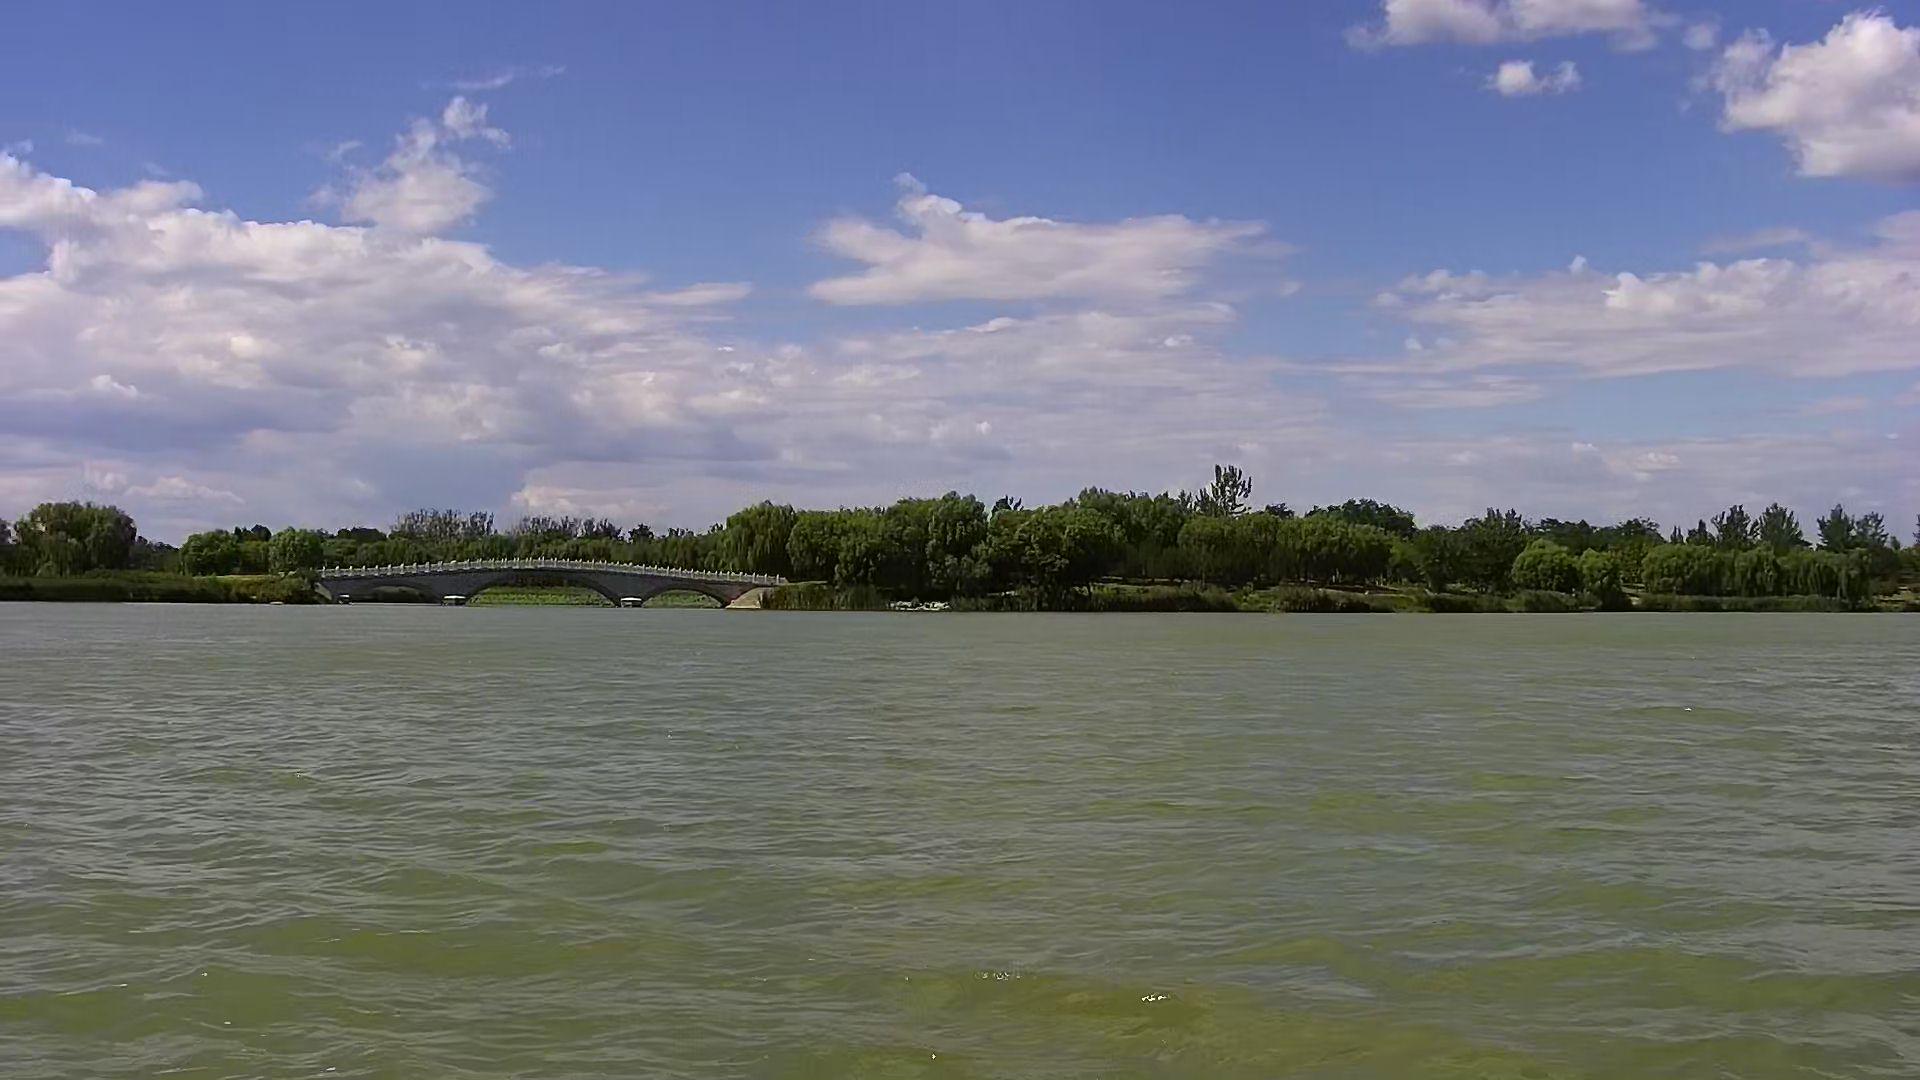bridge: (285, 545, 804, 611)
